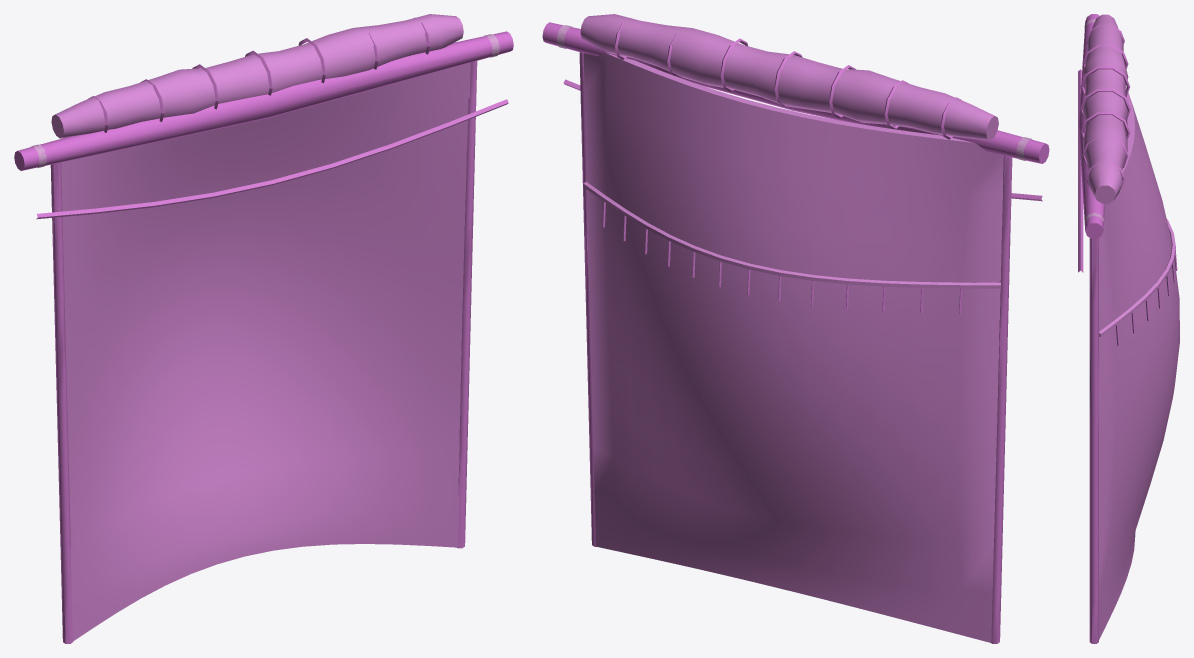
The model's file is sloop_parts.glb.
3 renders of one model, left to right at view 1: azimuth 30°, elevation 25°; view 2: azimuth 150°, elevation 25°; view 3: azimuth 270°, elevation 25°, orthographic. The views are drawn at different scales.
Parts seen in each view (by area): view 1: sail, furl, yard; view 2: sail, furl, yard; view 3: sail, furl, yard.
Boxes of the visible parts, bbox=[...] form: sail: bbox=[50, 61, 477, 643]; furl: bbox=[51, 14, 463, 138]; yard: bbox=[14, 31, 513, 219]; sail: bbox=[579, 52, 1012, 643]; furl: bbox=[580, 14, 998, 140]; yard: bbox=[542, 22, 1049, 201]; sail: bbox=[1089, 86, 1179, 643]; furl: bbox=[1080, 14, 1130, 203]; yard: bbox=[1078, 14, 1104, 272].
Size of the model in its own units: 5.4 by 5.65 by 1.11.
